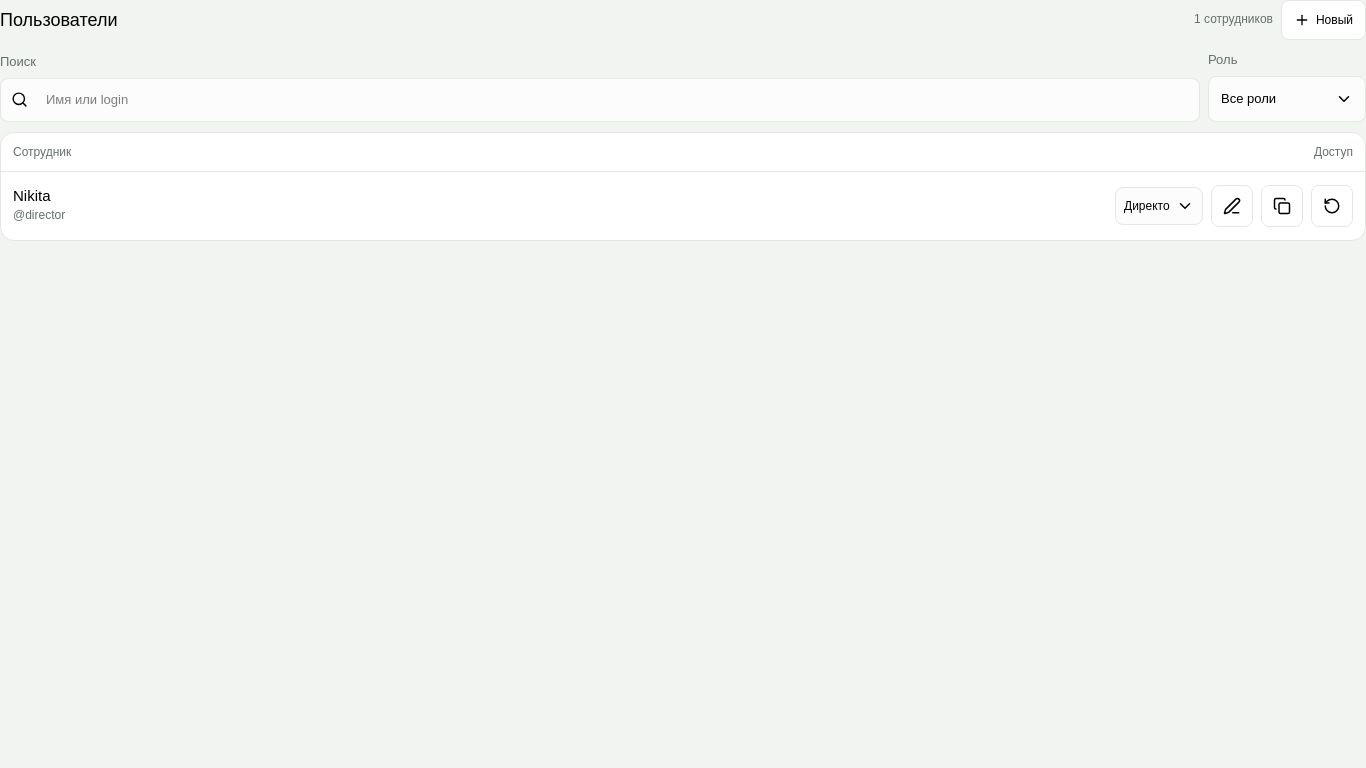
Test: AdminUsersHome › shows login conflict errors in the edit dialog
The width and height of the screenshot is (1366, 768).
Click the button named "Изменить пользователя Nikita".
click(1232, 206)  # box [1211,184,1253,226]
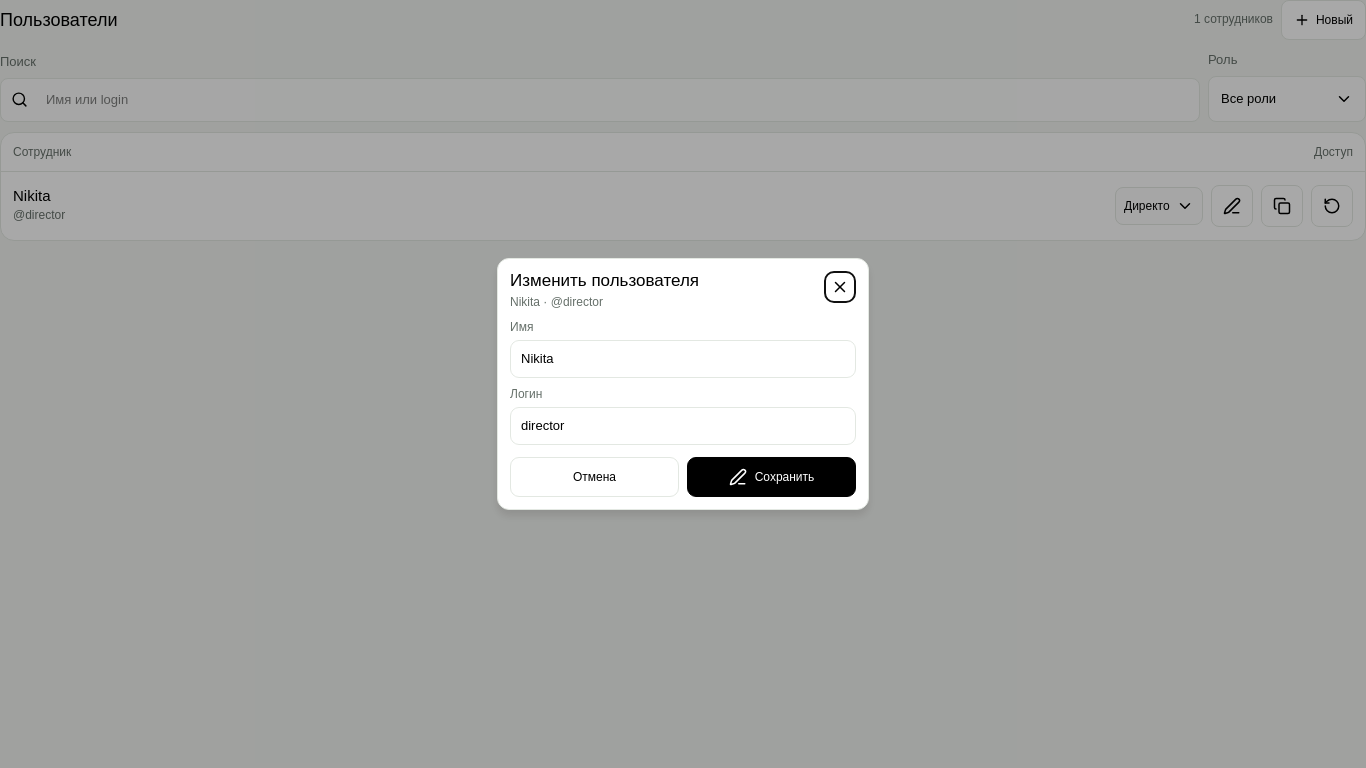
Click the button "Сохранить".
click(772, 477)  # box [687,457,856,497]
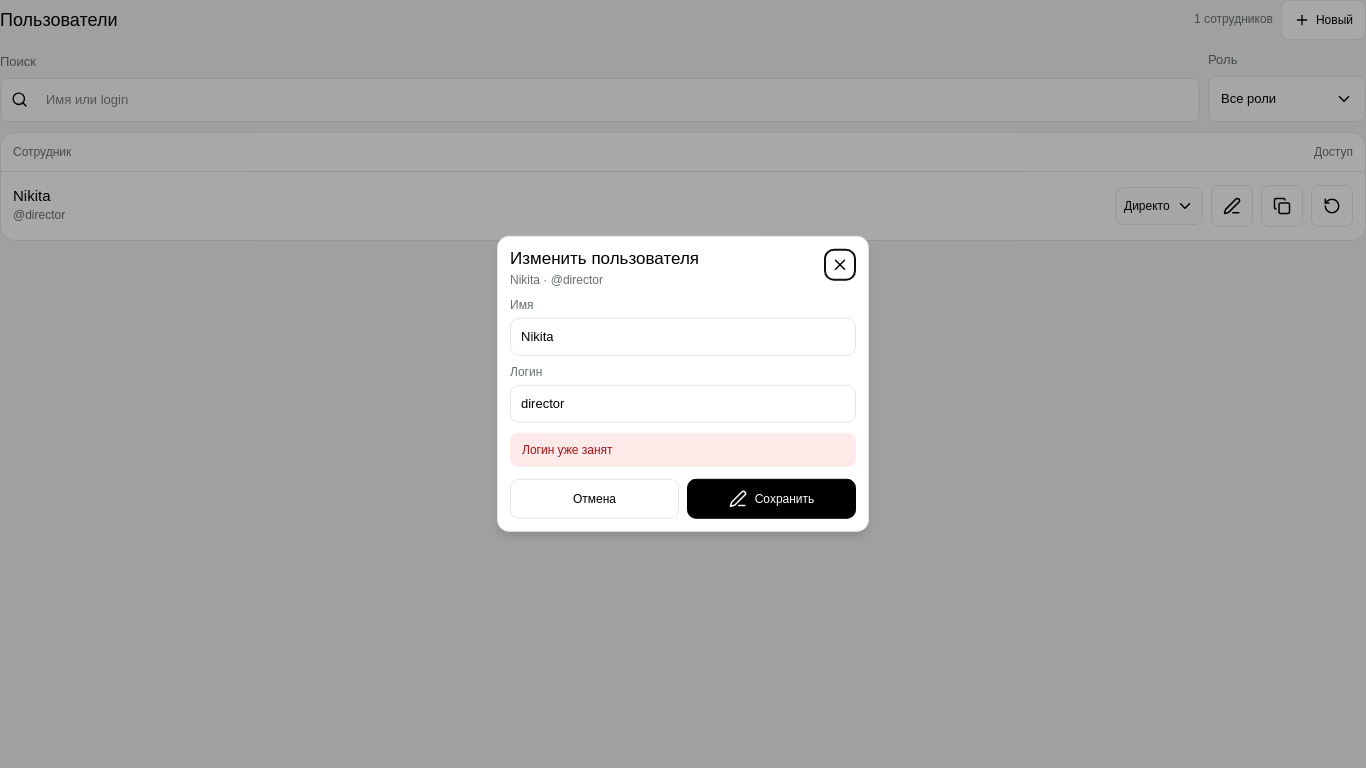
Check: the text "Логин уже занят" is shown, box [510,433,856,467]
